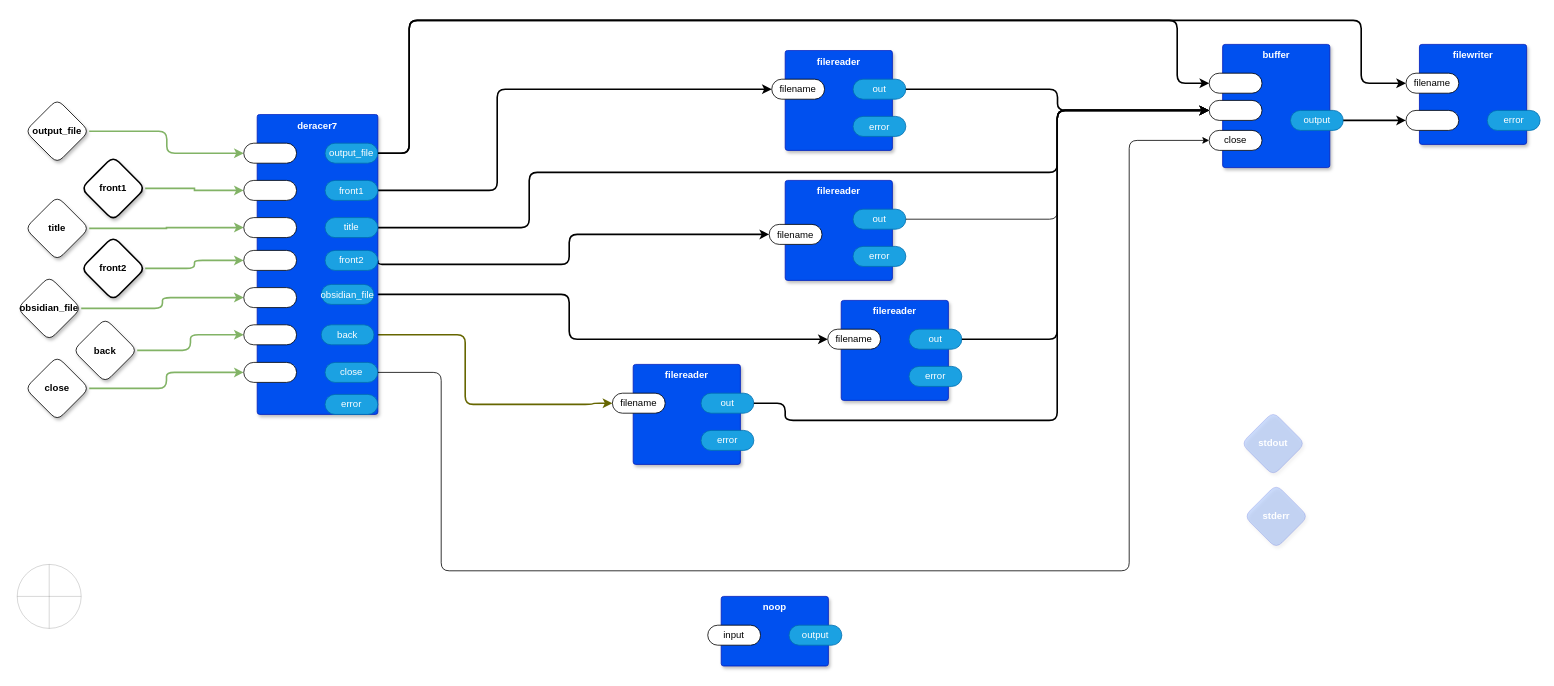
Some shapes in this 1554 by 686 pixel diagram are drawn without their labels. The centre of each missing label's shape, as x and y in pixels:
append: point (1235, 110)
data: point (1432, 120)
input1: point (270, 152)
input2: point (270, 190)
input3: point (270, 227)
input4: point (270, 260)
input5: point (270, 297)
input6: point (270, 334)
input7: point (270, 372)
open: point (1235, 82)
